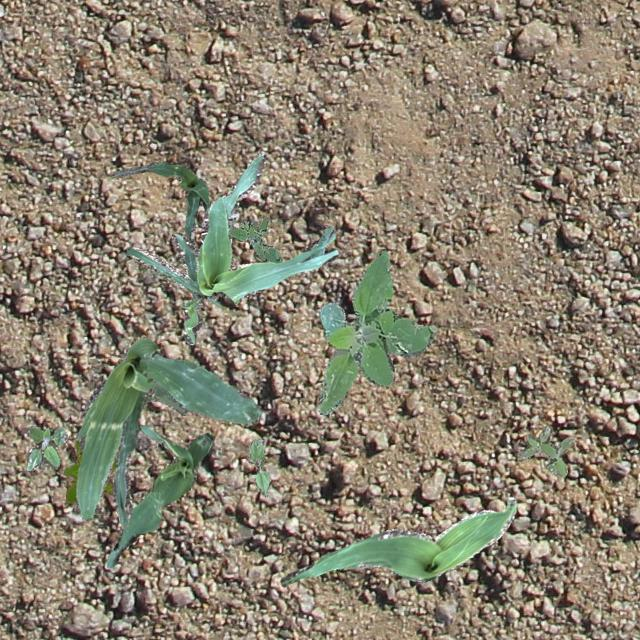crop: (126, 150, 337, 343), (74, 336, 260, 526), (280, 496, 516, 586), (105, 424, 214, 566), (113, 160, 210, 244), (136, 386, 187, 414), (248, 438, 270, 497)
weed: (317, 248, 433, 414), (61, 436, 116, 502), (516, 424, 574, 474), (228, 215, 282, 262), (26, 424, 66, 470)
